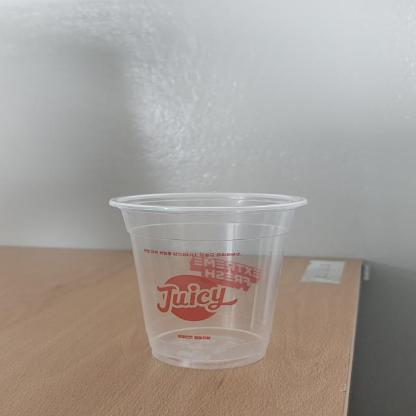Plastic Cup: (108, 191, 312, 369)
